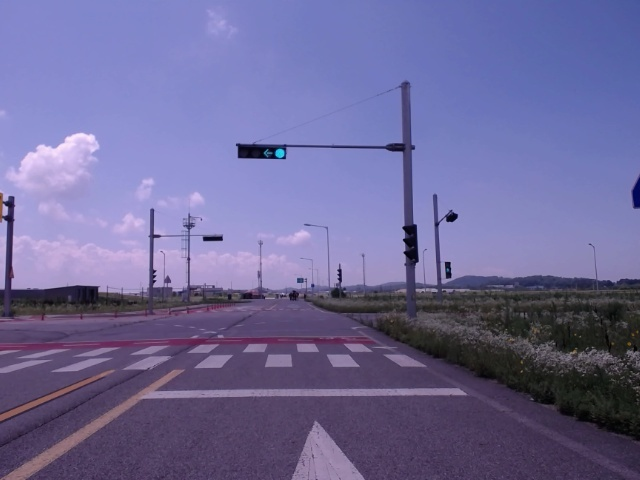all_green_4: (237, 142, 293, 157)
